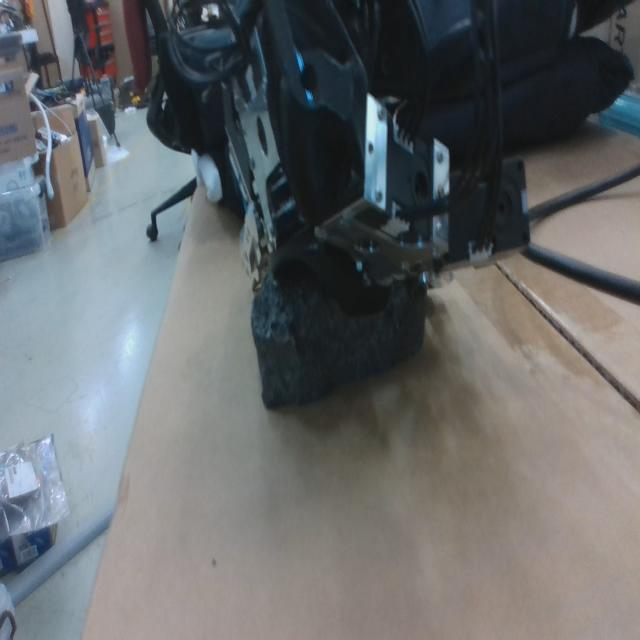stone: (250, 250, 428, 415)
